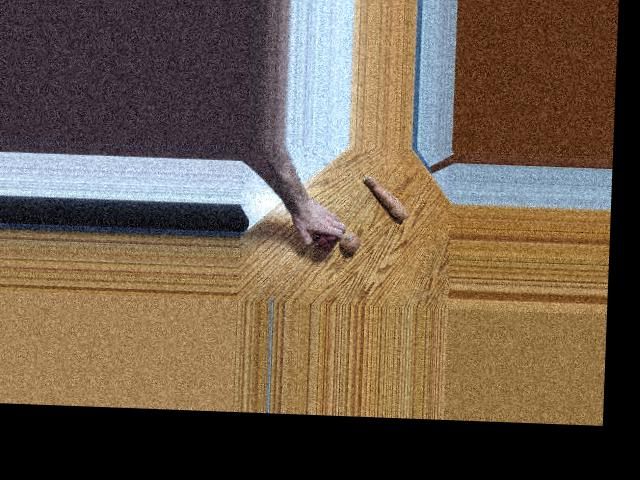onion: (315, 227, 338, 250)
